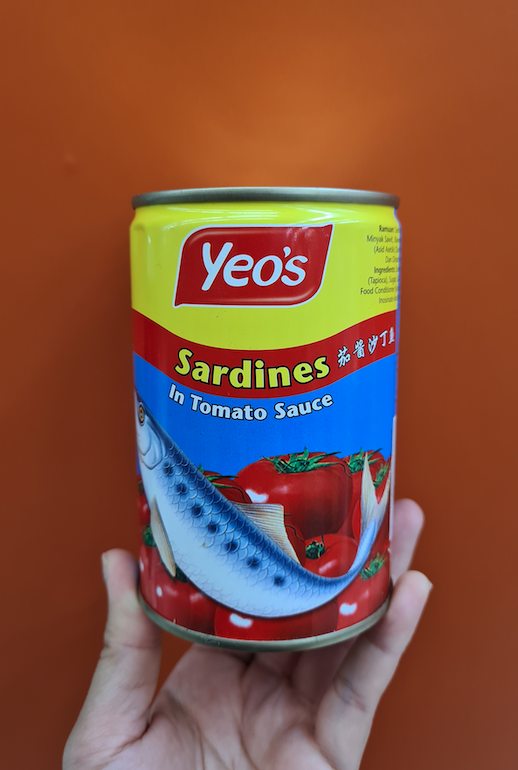Canned_Sardines_and_Mackerel: (135, 196, 390, 629)
